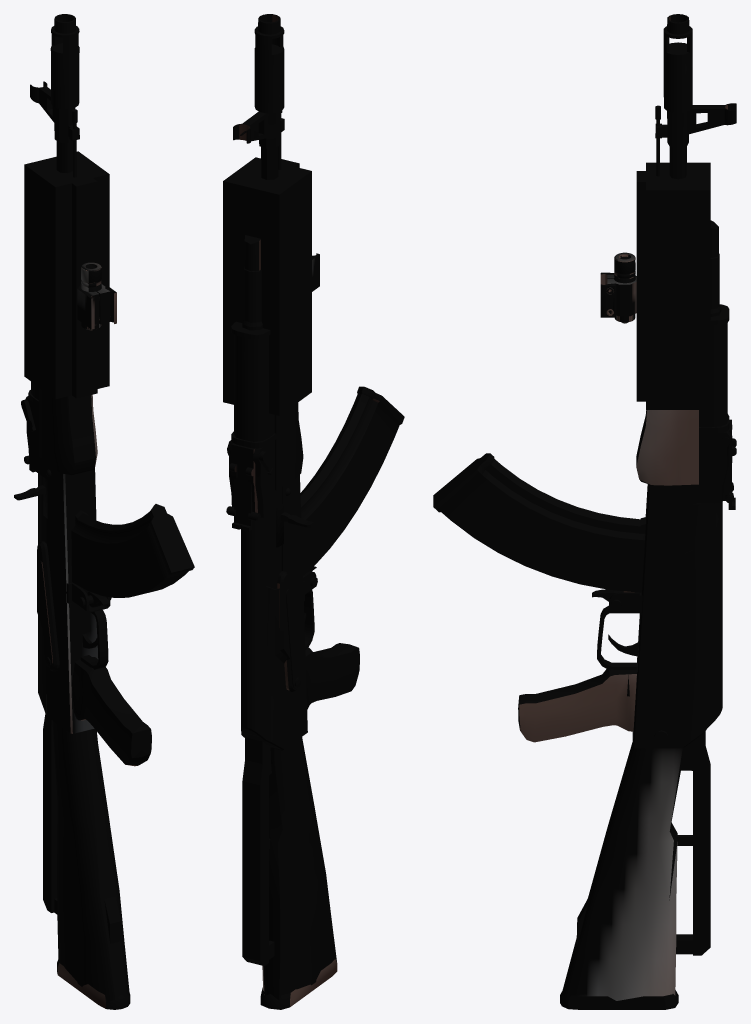
Rendered from AK74__Handguard_AK_Quad__Light_Pistol__Stock_AK_Folding.fbx.
3 views of the same model, side by side, from view 1: azimuth 30°, elevation 25°; view 2: azimuth 150°, elevation 25°; view 3: azimuth 270°, elevation 25° (orthographic). The views are drawn at different scales.
Parts seen in each view (by area): view 1: asset_AK74.001; view 2: asset_AK74.001; view 3: asset_AK74.001.
Part boxes in pixels (x1,y1,x2,y2): asset_AK74.001: (14,14,194,1009); asset_AK74.001: (223,14,404,1009); asset_AK74.001: (433,14,736,1009).
Bounding box in the file's own units: 0.046 × 0.564 × 0.1574.
